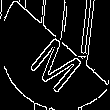M_NE: (23, 21, 87, 89)
